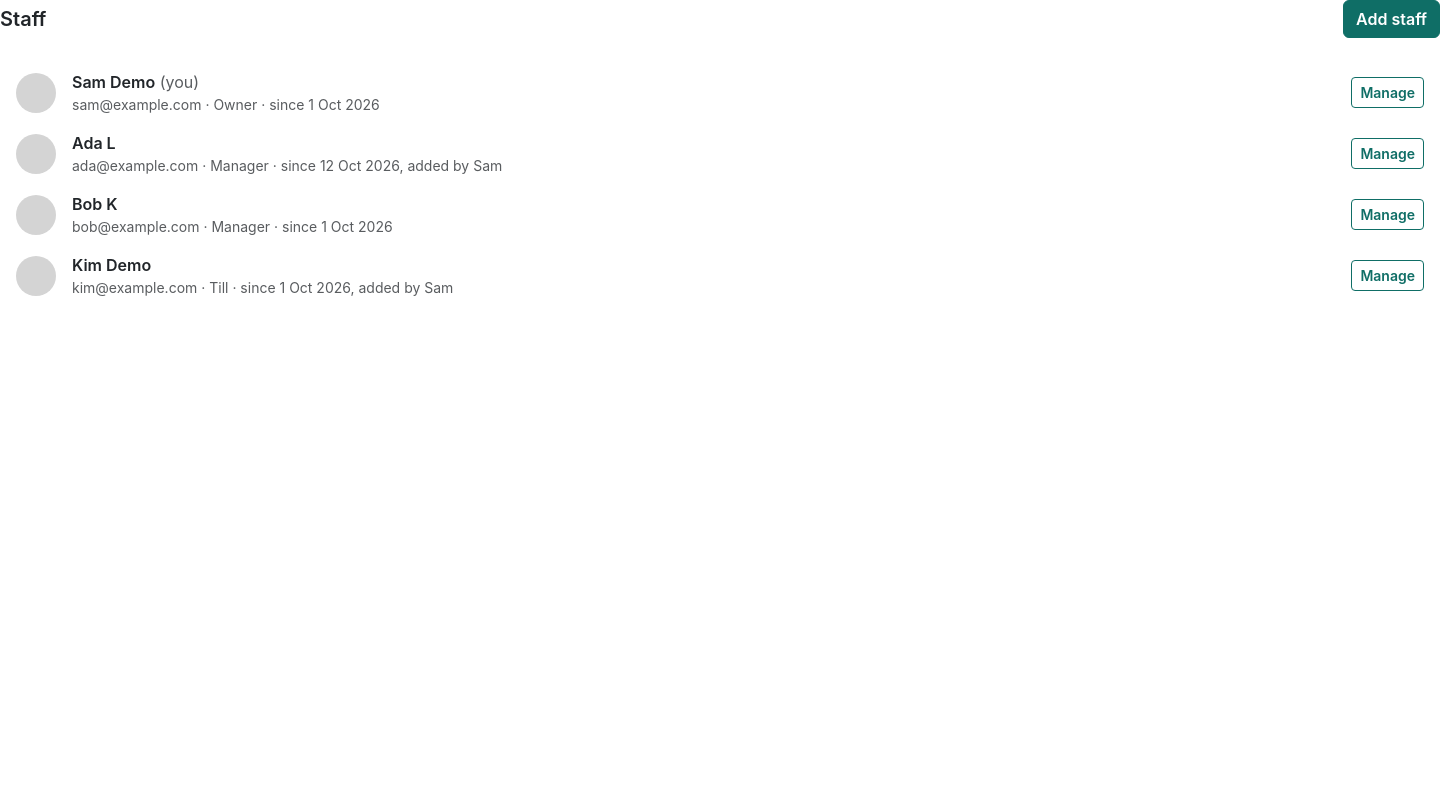
Scenario: the owner › changes a member's role, after being told what follows, and the list follows
Click the button with aria-label "Manage Ada L" at (1388, 154), box x1=1351 y1=138 x2=1424 y2=169
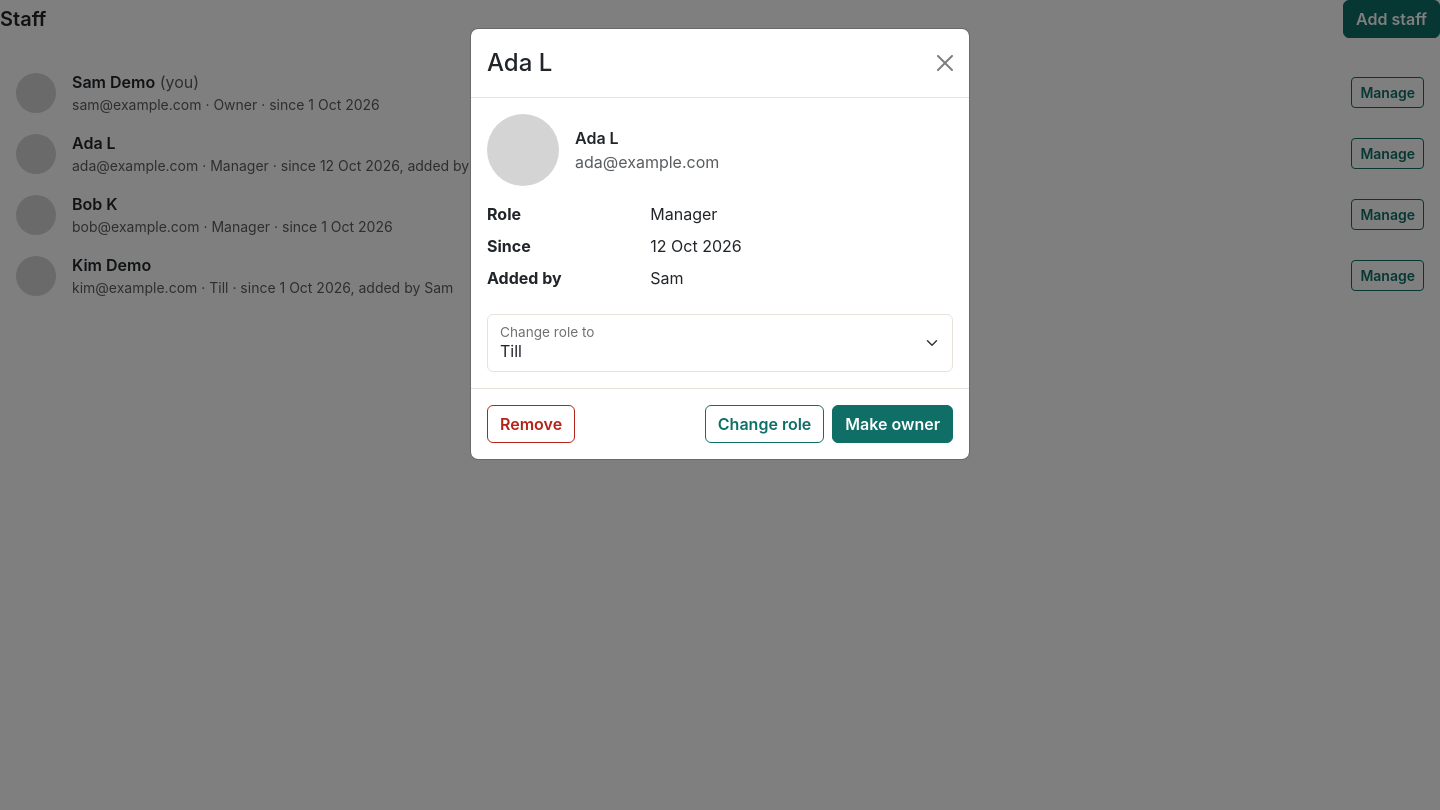
Select "Floor" in the dropdown labelled "Change role to" at (720, 343), box x1=487 y1=314 x2=953 y2=372
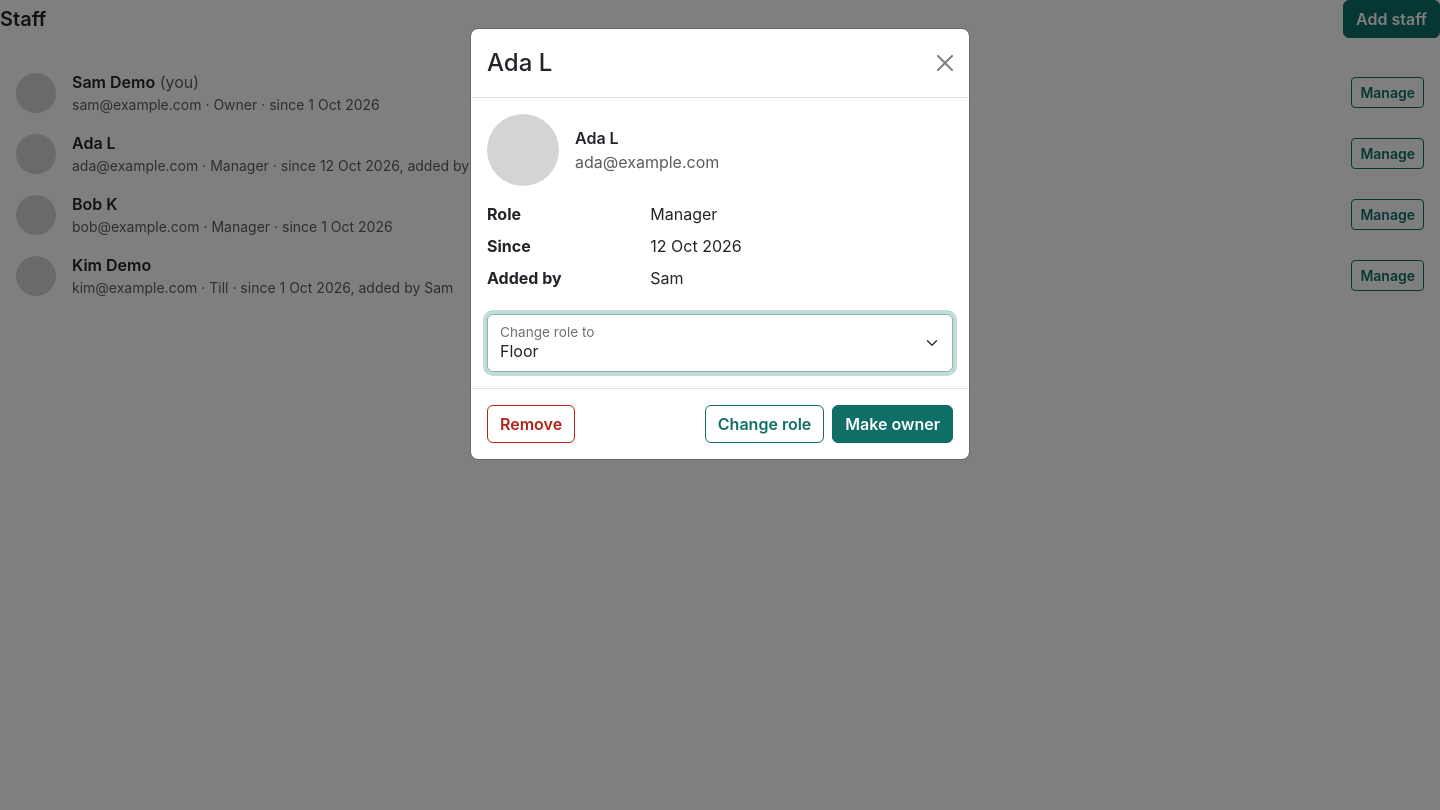
Click the button "Change role" at (765, 424), box x1=705 y1=405 x2=824 y2=443
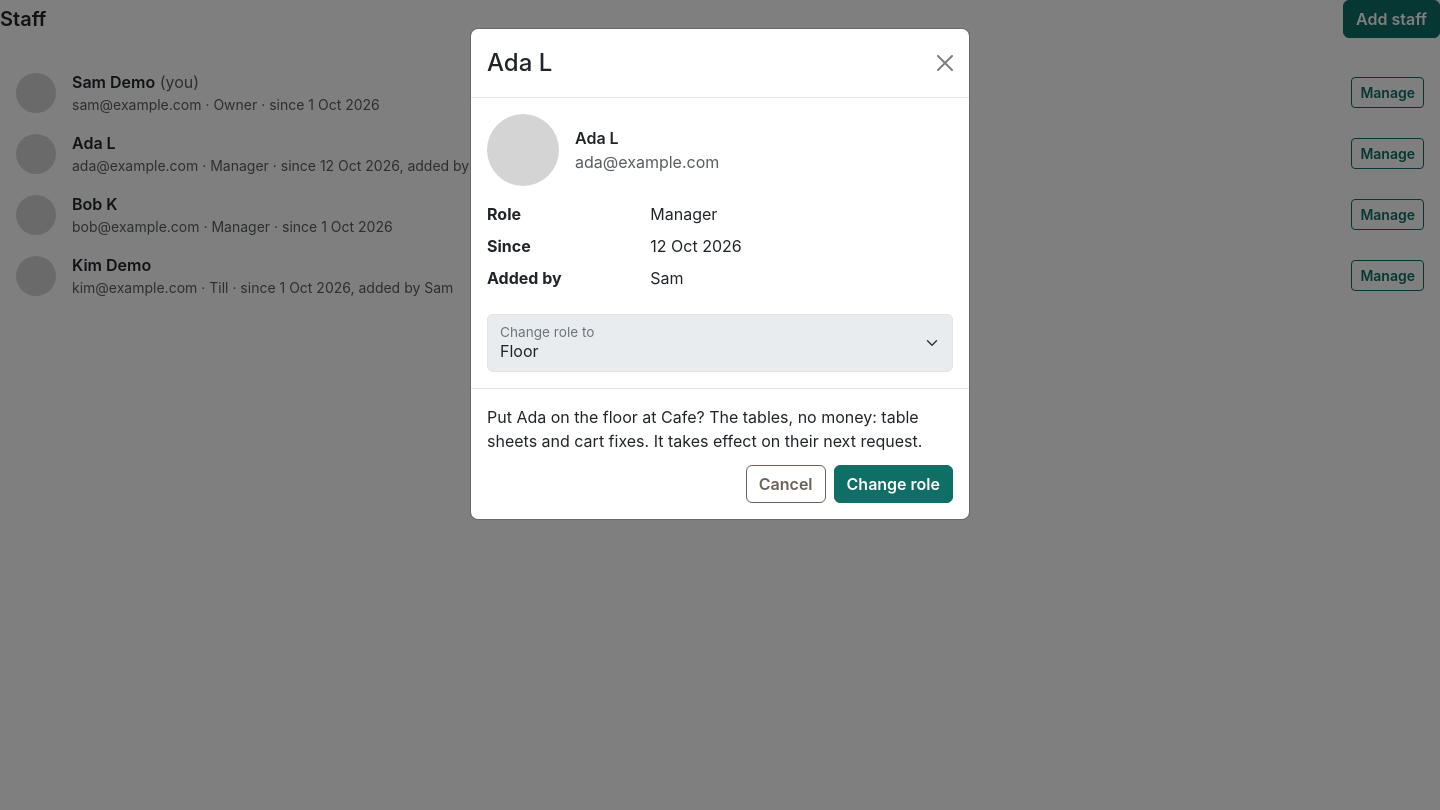
expect the text "Put Ada on the floor at Cafe? The tables, no money" is shown: met, box x1=487 y1=407 x2=922 y2=451
Click the button "Change role" at (893, 484), box x1=834 y1=465 x2=953 y2=503
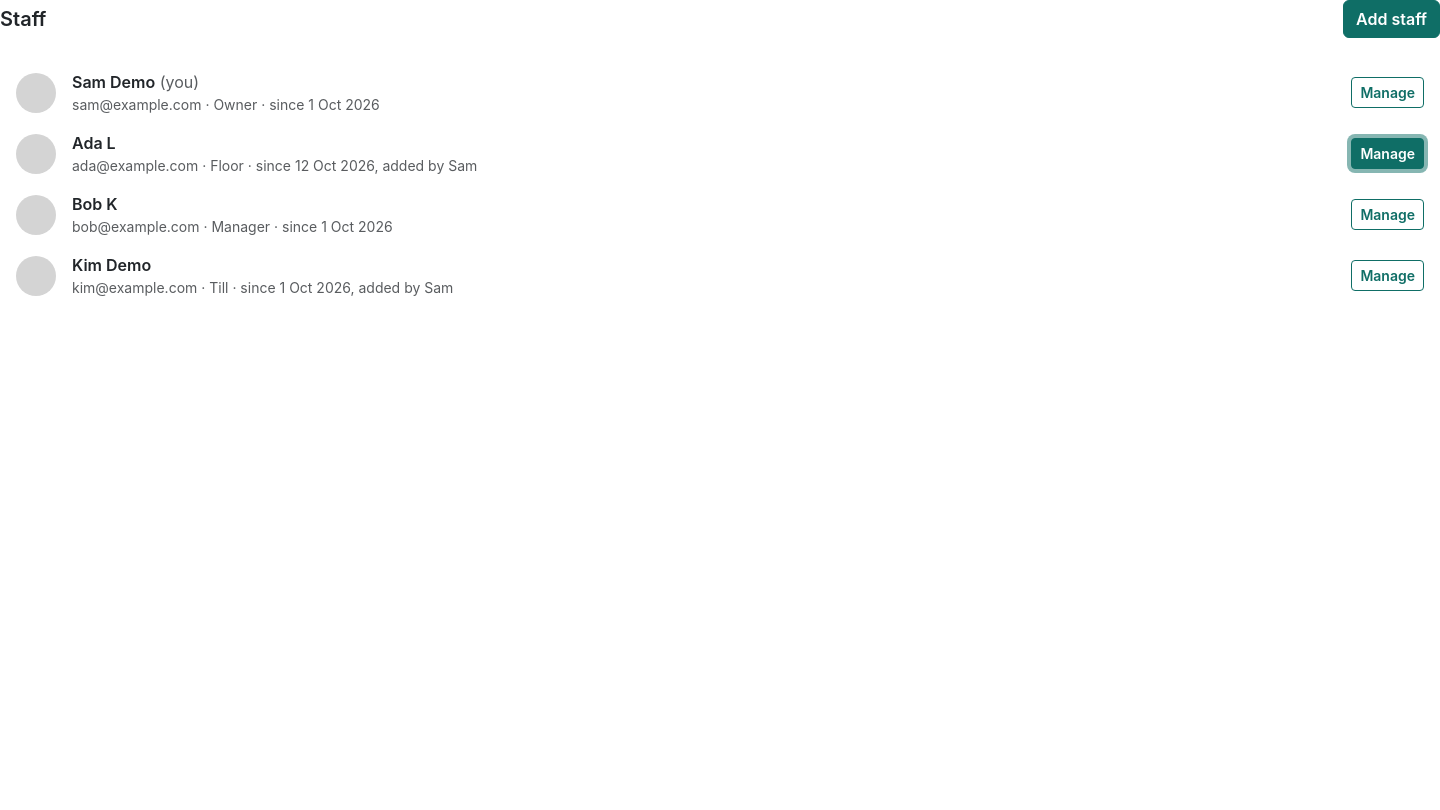
expect the list item that starts with "Ada L" shows "Floor": met, box x1=210 y1=157 x2=244 y2=174
